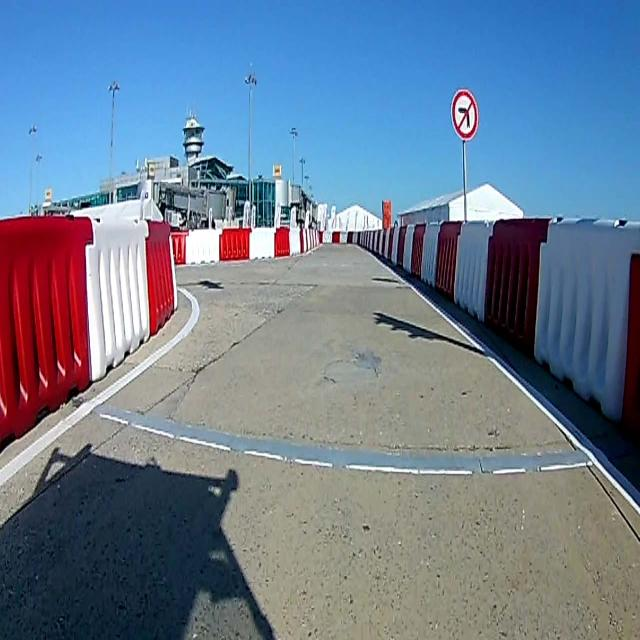soladonulmez: (452, 91, 478, 141)
